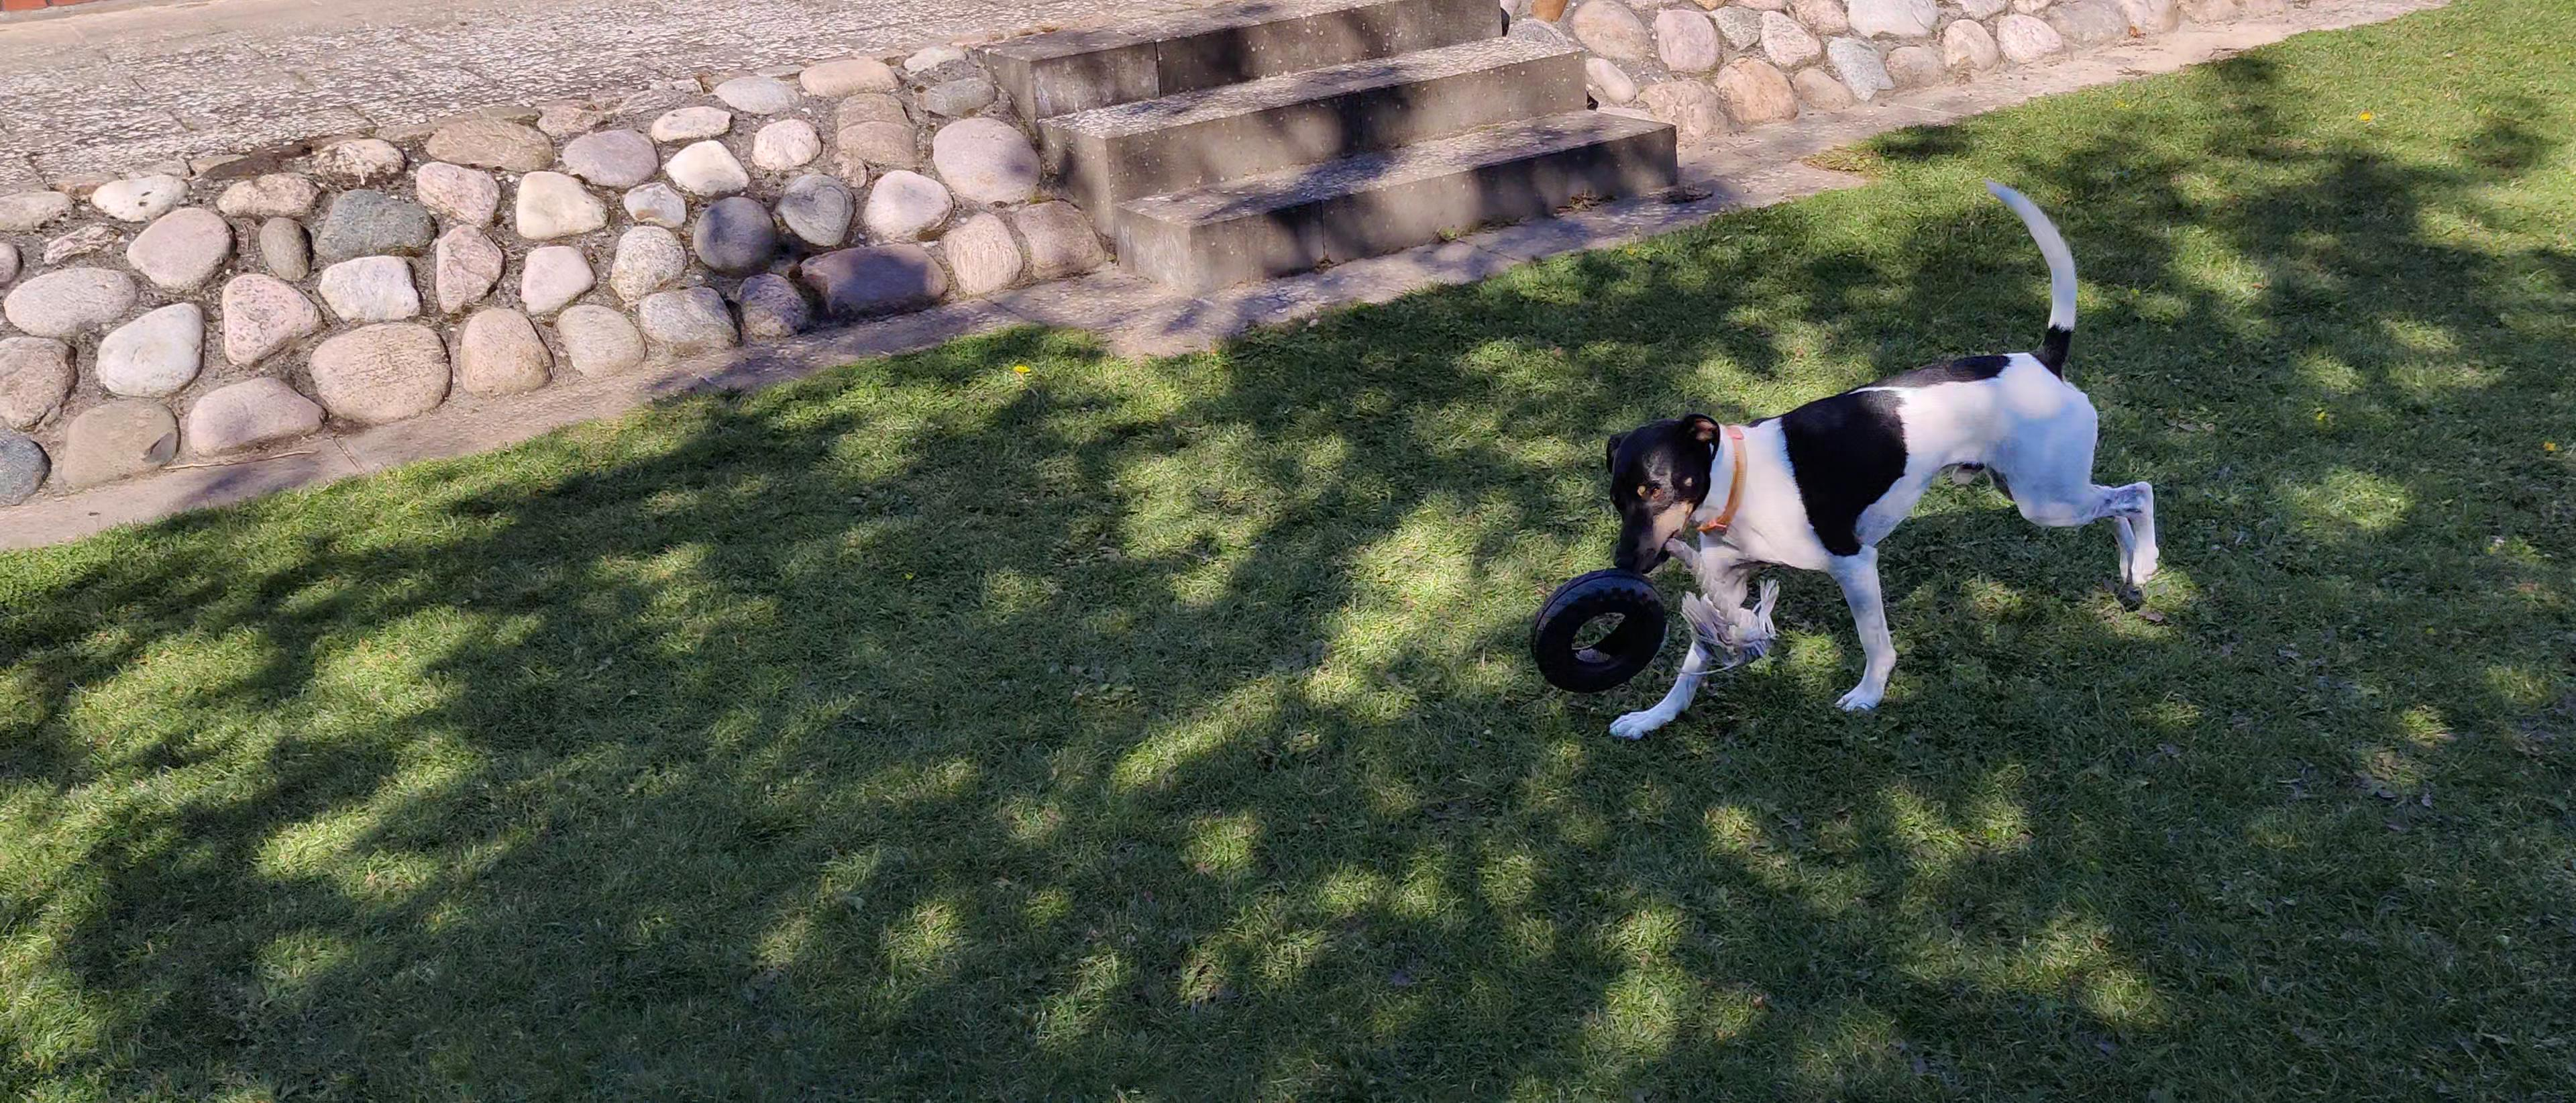Dog: (1602, 179, 2170, 745)
